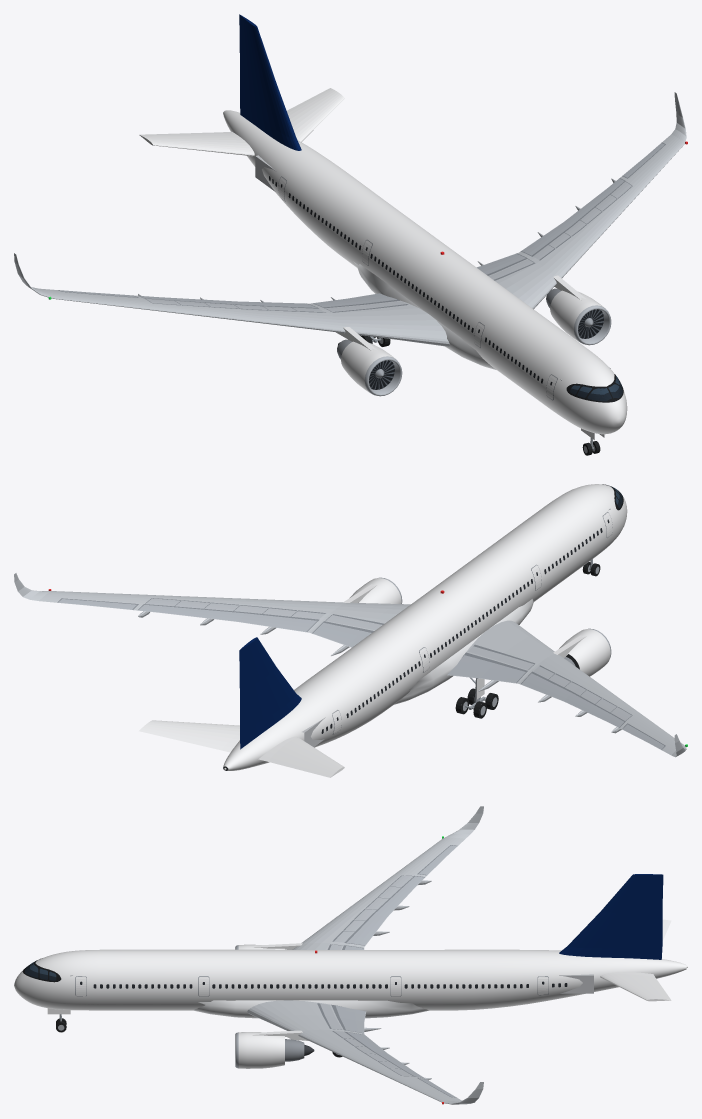
3 renders of one model, top to bottom at view 1: azimuth 30°, elevation 25°; view 2: azimuth 150°, elevation 25°; view 3: azimuth 270°, elevation 25°, orthographic. The views are drawn at different scales.
Parts seen in each view (by area): view 1: a350_exterior, a350_exterior_flat; view 2: a350_exterior, a350_exterior_flat; view 3: a350_exterior, a350_exterior_flat.
Boxes of the visible parts, left/top/right/bottom form: a350_exterior: left=223, top=110, right=627, bottom=434; a350_exterior_flat: left=14, top=14, right=686, bottom=455; a350_exterior: left=223, top=484, right=627, bottom=770; a350_exterior_flat: left=14, top=484, right=686, bottom=777; a350_exterior: left=14, top=944, right=686, bottom=1068; a350_exterior_flat: left=22, top=806, right=671, bottom=1104.
Bounding box in the file's own units: 64.82 × 17.05 × 66.93.
